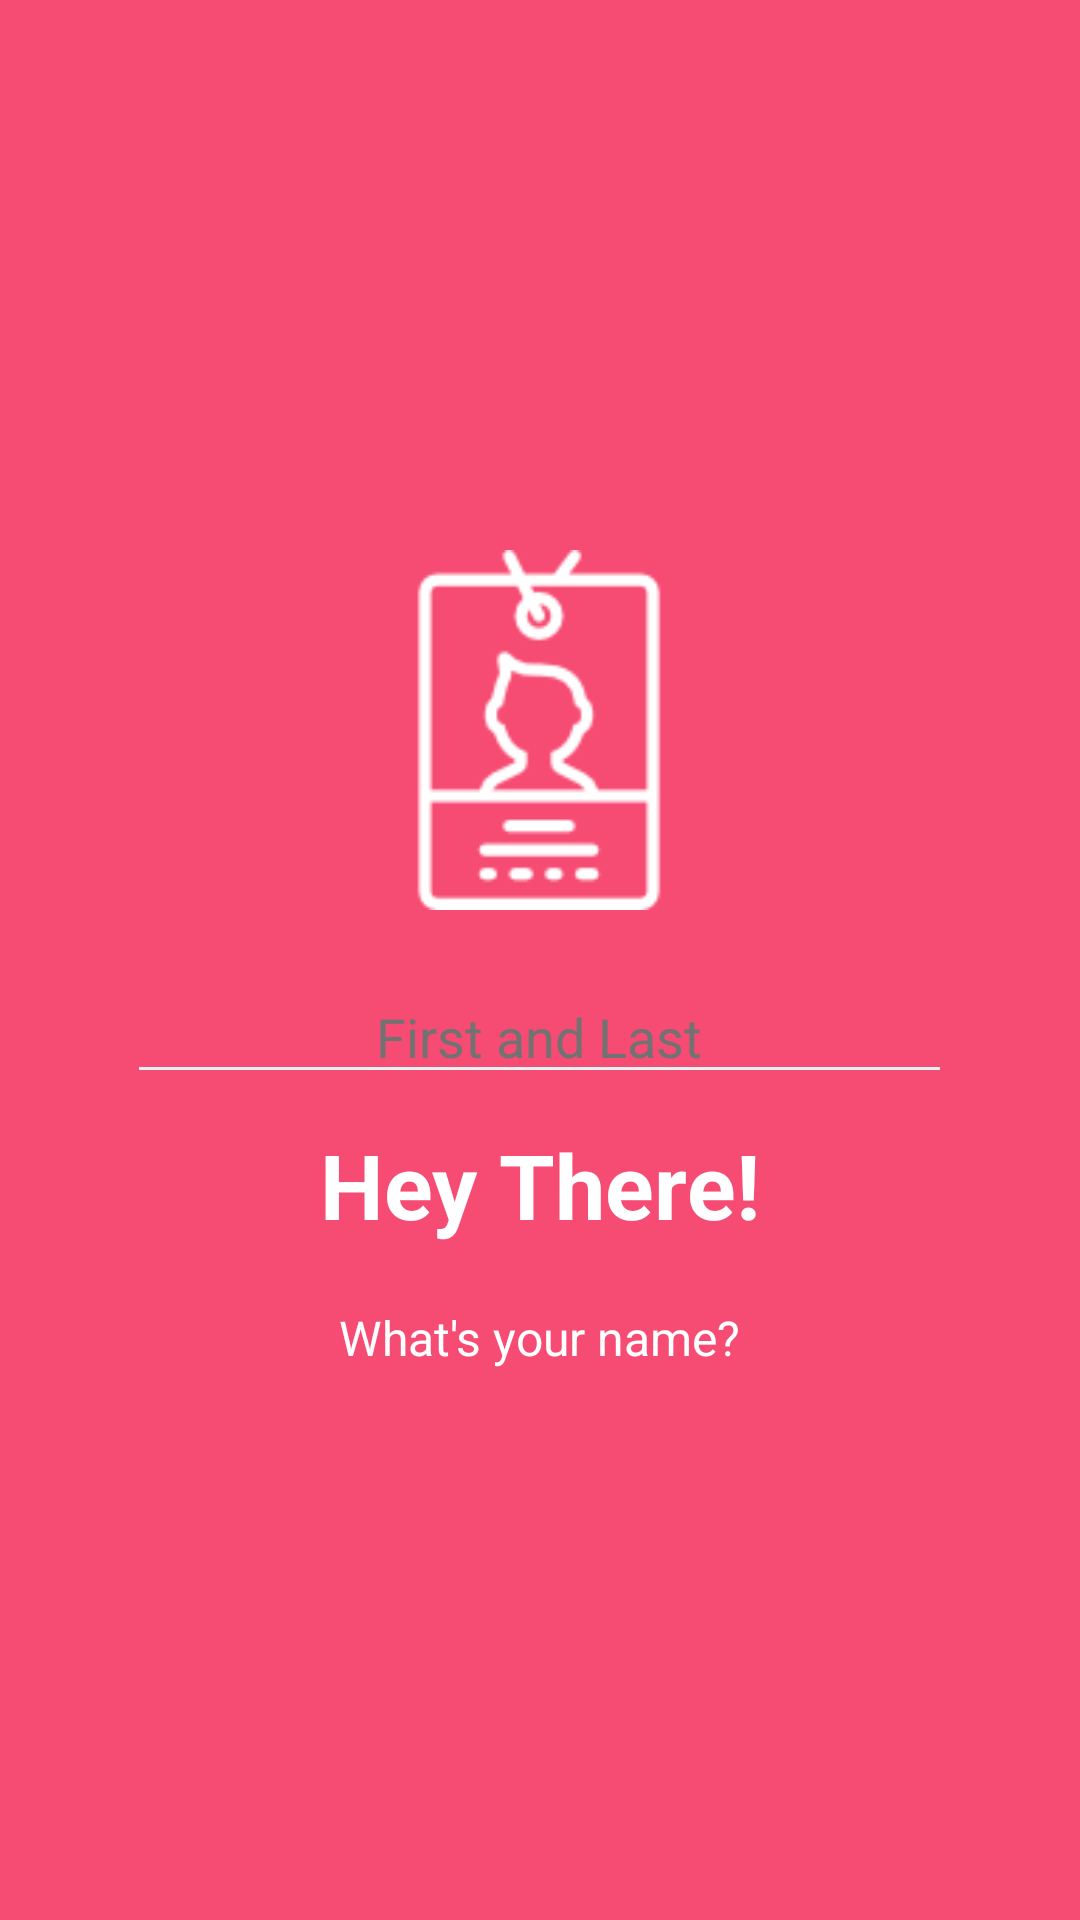

Named icons in this screenshot (1080px×1920px) and their centers, (x=x, y=y):
id card: (x=539, y=730)
